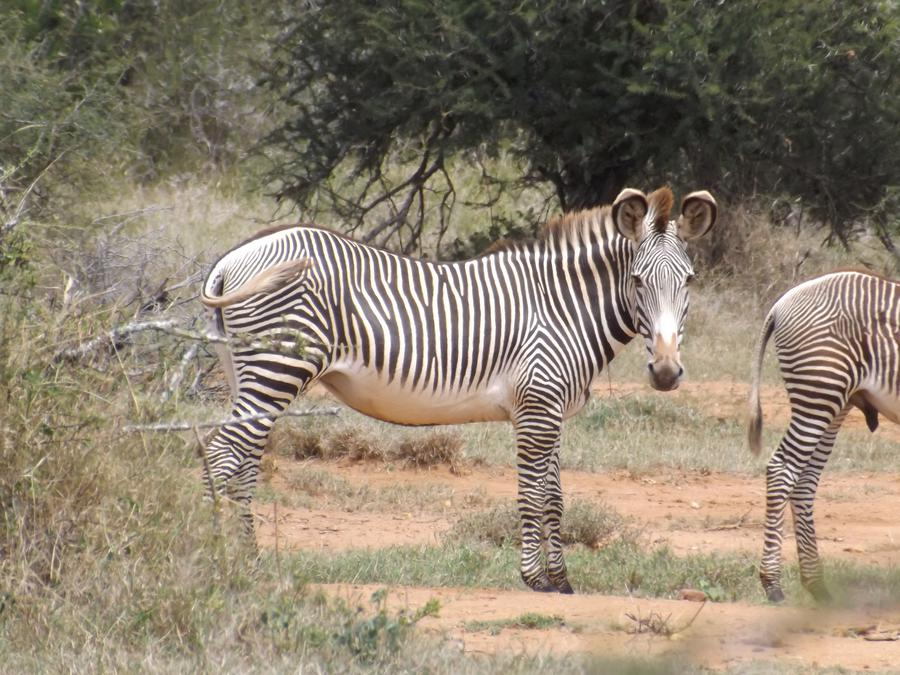zebra_grevys: (213, 218, 571, 414)
